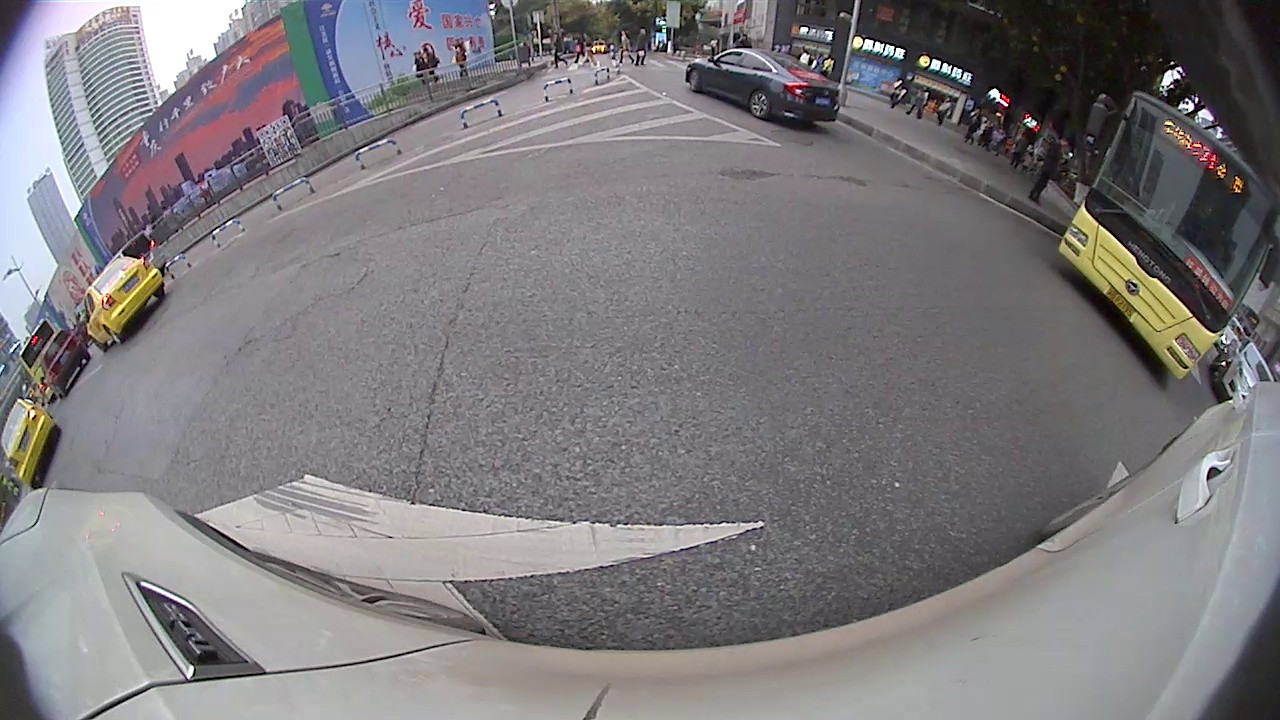bus: (1057, 88, 1278, 383), (19, 315, 58, 391)
car: (683, 47, 843, 123), (83, 254, 167, 353), (1, 397, 64, 489), (1213, 338, 1279, 407), (39, 326, 93, 396), (114, 230, 178, 273)
front: (683, 70, 708, 93)
person: (1048, 132, 1062, 197)
rear: (746, 89, 772, 119)
